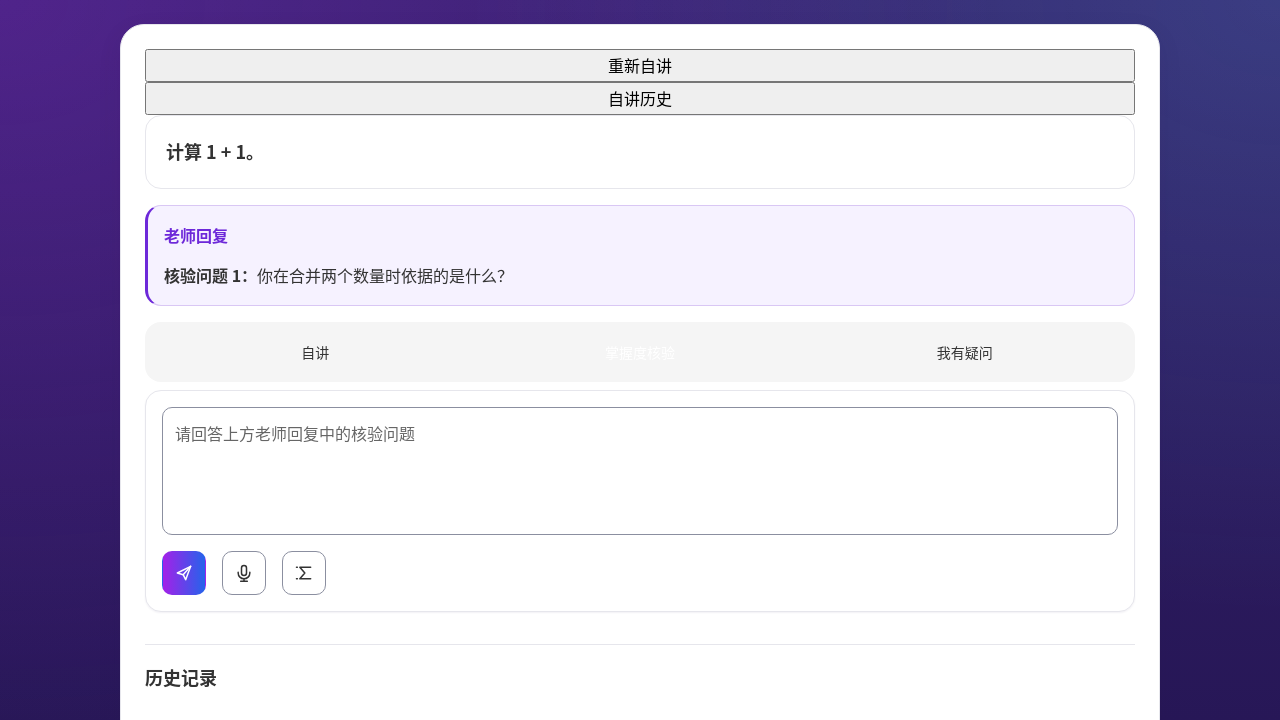
SessionView › requires every mastery check question to be answered before submitting
Click the button with test id "submit-mastery-check" at (184, 573), box [162,551,206,595]
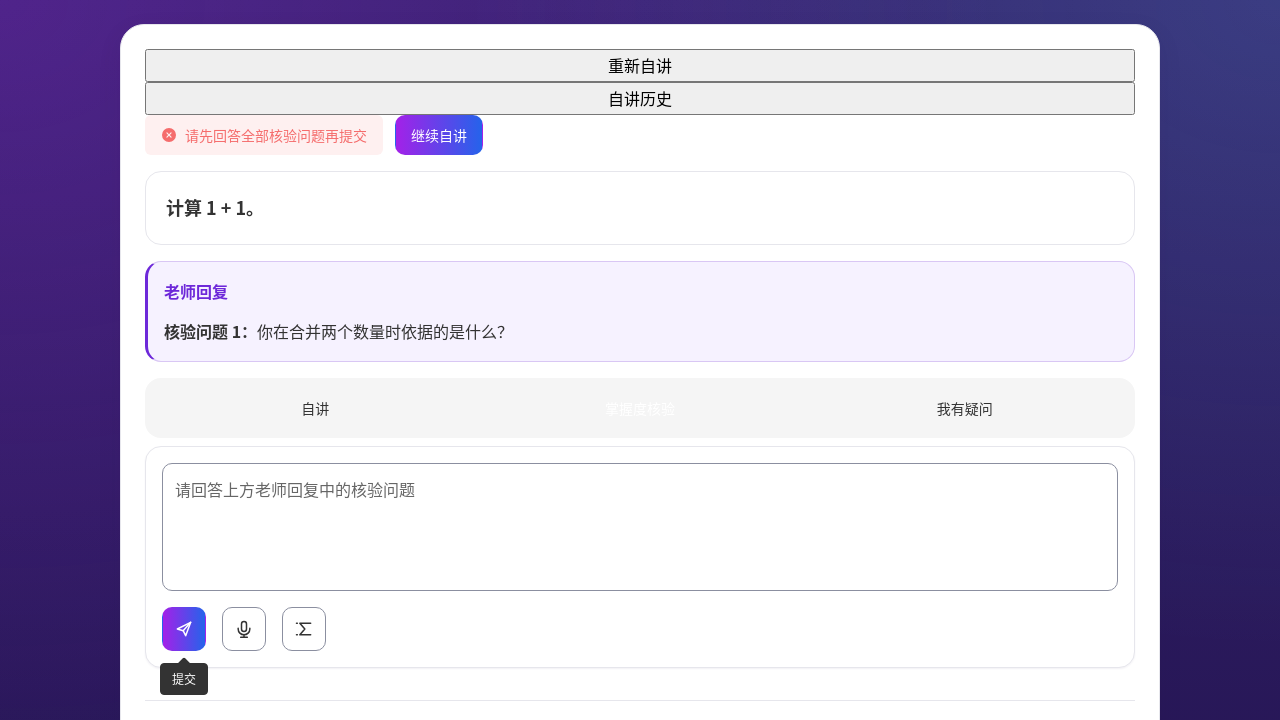
Check: the text "请先回答全部核验问题再提交" is shown, box [185,123,367,147]
